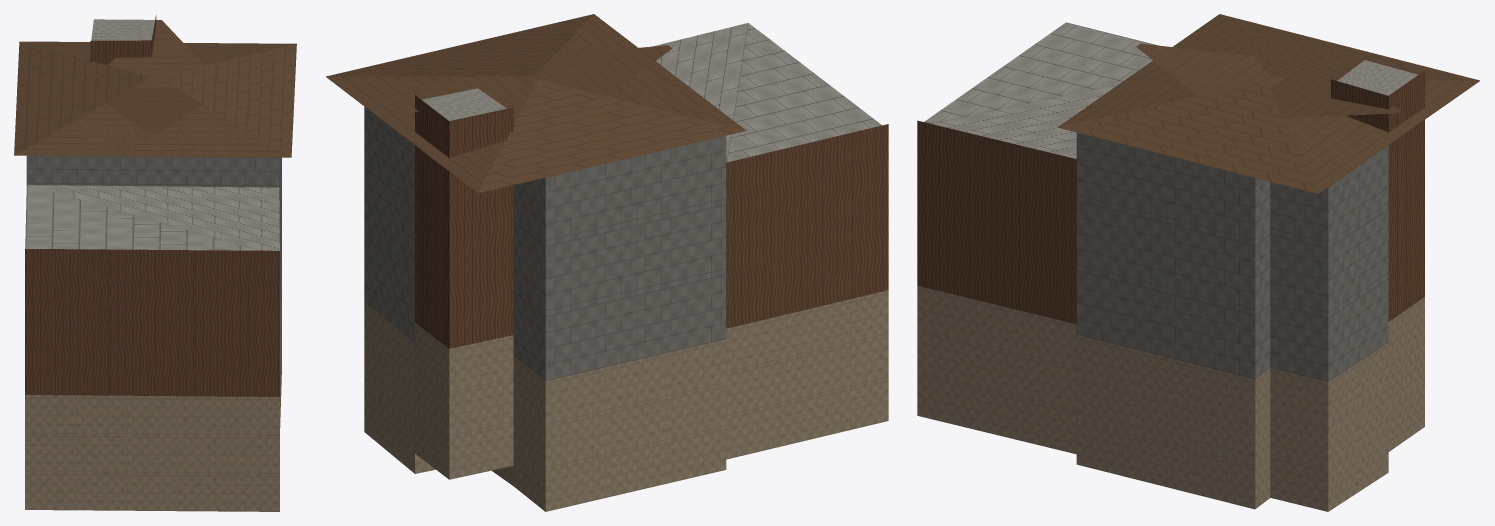
The model's file is bld_c-2_19_538.gltf.
3 views of the same model, side by side, from view 1: azimuth 30°, elevation 25°; view 2: azimuth 150°, elevation 25°; view 3: azimuth 270°, elevation 25° (orthographic). The views are drawn at different scales.
Parts seen in each view (by area): view 1: bld_c-2_19_538; view 2: bld_c-2_19_538; view 3: bld_c-2_19_538.
Part boxes in pixels (bbox=[...]): bld_c-2_19_538: bbox=[14, 15, 296, 511]; bld_c-2_19_538: bbox=[326, 14, 888, 511]; bld_c-2_19_538: bbox=[917, 14, 1479, 511].
Bounding box in the file's own units: 17.8 × 14.78 × 20.03.
6 materials, 6 textured.
